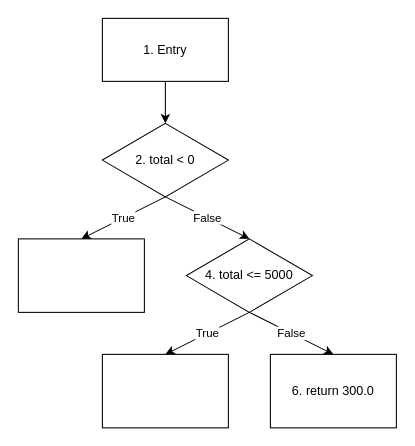
Image size: 415x446. Some labels were removed from this diagram. The centre of each missing label's shape, as x and y in pixels:
"3. return -1.0" belongs at point (80, 275).
"5. return 0.0" belongs at point (164, 390).
